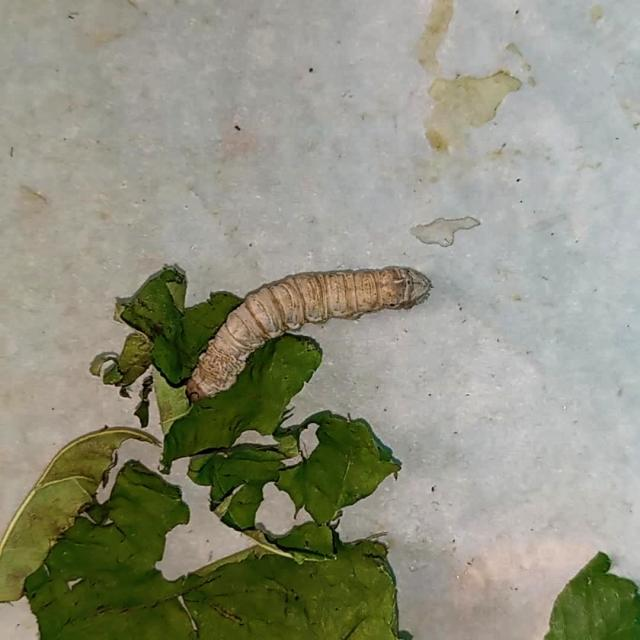Grasserie: (178, 231, 446, 429)
